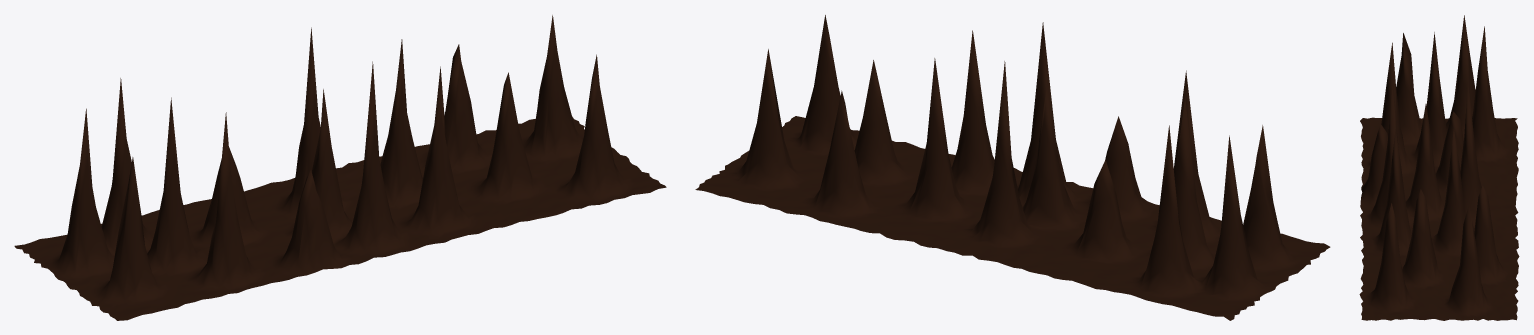
The model's file is Mountain_Mapa06_07.FBX.
The picture shows the model from 3 angles, left to right: view 1: azimuth 30°, elevation 25°; view 2: azimuth 150°, elevation 25°; view 3: azimuth 270°, elevation 25°; orthographic projection. The views are drawn at different scales.
Parts seen in each view (by area): view 1: Plane006; view 2: Plane006; view 3: Plane006.
Boxes of the visible parts, x1=… form: Plane006: x1=14, y1=15, x2=666, y2=320; Plane006: x1=695, y1=15, x2=1330, y2=320; Plane006: x1=1359, y1=15, x2=1519, y2=320.
Size of the model in its own units: 865 by 270 by 287.
